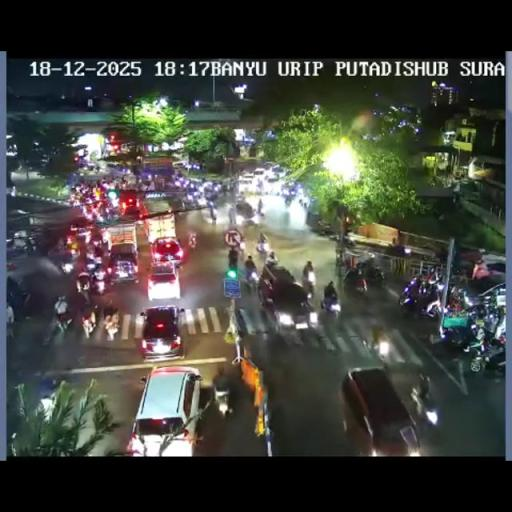Car: (339, 367, 419, 455), (126, 365, 202, 454), (256, 262, 314, 332), (137, 305, 184, 360), (107, 242, 140, 284), (466, 280, 506, 310), (150, 236, 184, 267), (235, 306, 264, 338), (68, 216, 94, 242), (118, 190, 142, 216), (251, 168, 267, 188), (238, 172, 254, 192), (266, 169, 280, 182)
Motorcycle: (226, 228, 270, 282), (399, 274, 444, 319), (465, 330, 504, 372), (437, 313, 478, 350), (42, 306, 71, 346), (364, 328, 392, 363), (415, 390, 439, 427), (342, 267, 367, 298), (213, 381, 232, 415), (482, 306, 503, 336), (362, 262, 385, 288), (56, 249, 78, 275), (447, 286, 468, 312), (321, 282, 339, 312), (90, 268, 108, 294), (244, 266, 259, 292), (76, 284, 91, 310), (314, 218, 334, 236), (101, 201, 118, 220), (82, 314, 95, 338), (240, 212, 258, 229), (302, 276, 315, 299), (6, 304, 14, 339), (227, 247, 238, 270), (255, 238, 269, 256), (85, 255, 98, 273), (182, 190, 196, 206), (25, 237, 37, 255), (264, 252, 278, 267), (188, 230, 197, 252), (342, 234, 356, 247), (236, 240, 245, 260), (94, 242, 104, 260), (328, 230, 341, 242), (196, 192, 207, 206), (228, 206, 236, 225), (284, 192, 294, 206), (256, 205, 266, 219), (209, 206, 216, 222), (142, 179, 150, 191), (222, 183, 228, 197), (298, 198, 306, 208)
